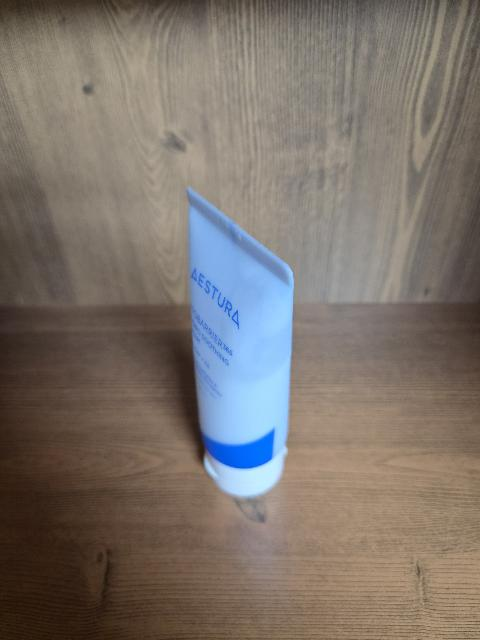handcream: (186, 187, 294, 497)
